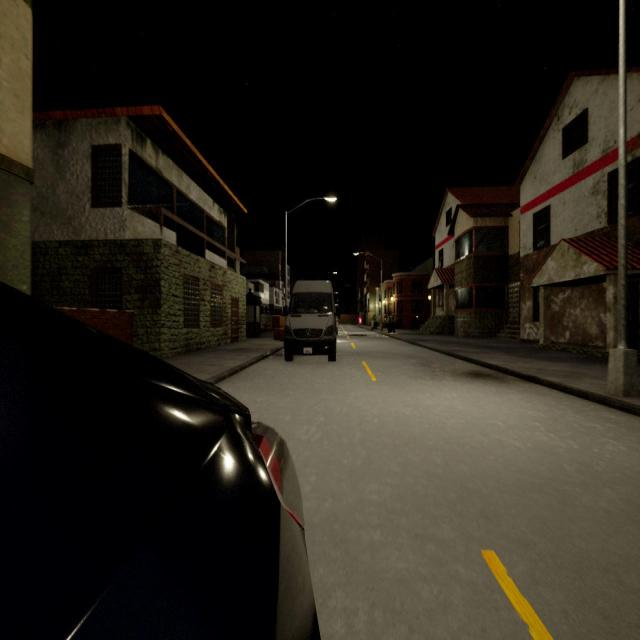Vehicle: (0, 283, 319, 638), (282, 280, 341, 362)
